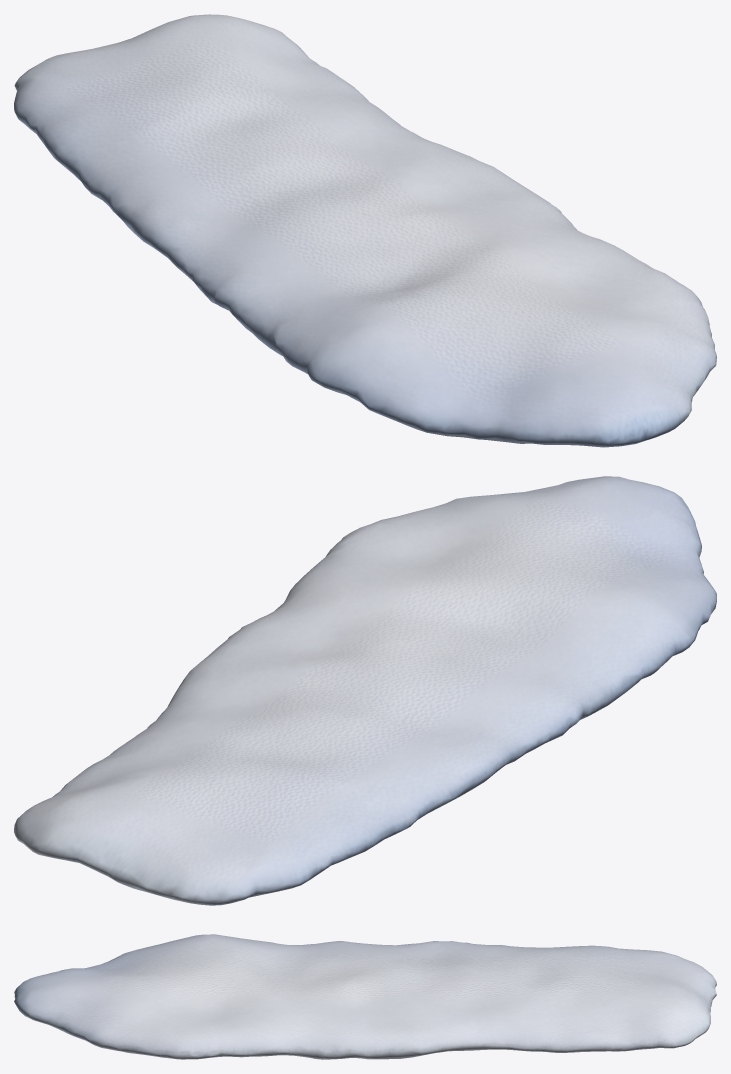
The model's file is PR_SnowSoft_Bank.fbx.
3 renders of one model, top to bottom at view 1: azimuth 30°, elevation 25°; view 2: azimuth 150°, elevation 25°; view 3: azimuth 270°, elevation 25°, orthographic. The views are drawn at different scales.
Parts seen in each view (by area): view 1: texture_mapping; view 2: texture_mapping; view 3: texture_mapping.
Boxes of the visible parts, bbox=[...] form: texture_mapping: bbox=[14, 14, 716, 447]; texture_mapping: bbox=[14, 476, 716, 905]; texture_mapping: bbox=[14, 934, 716, 1059].
Size of the model in its own units: 0.3951 by 1 by 0.0662.
Materials: 1 (1 with a texture image).
